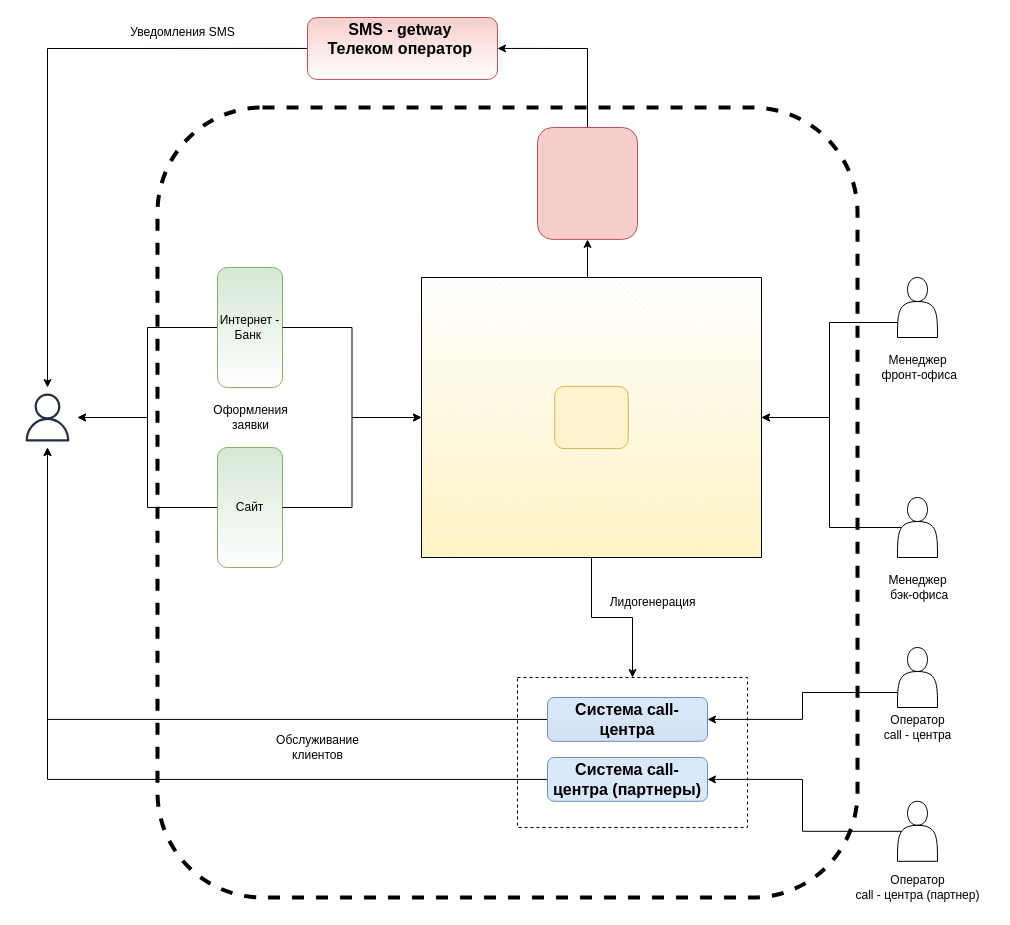
This 1010x925 diagram has some shape labels left out. The centre of each missing label's shape, as x and y in pixels:
"Client" belongs at pixel 47 417.
"SMS - getway" belongs at pixel 587 182.
"АБС" belongs at pixel 591 417.
